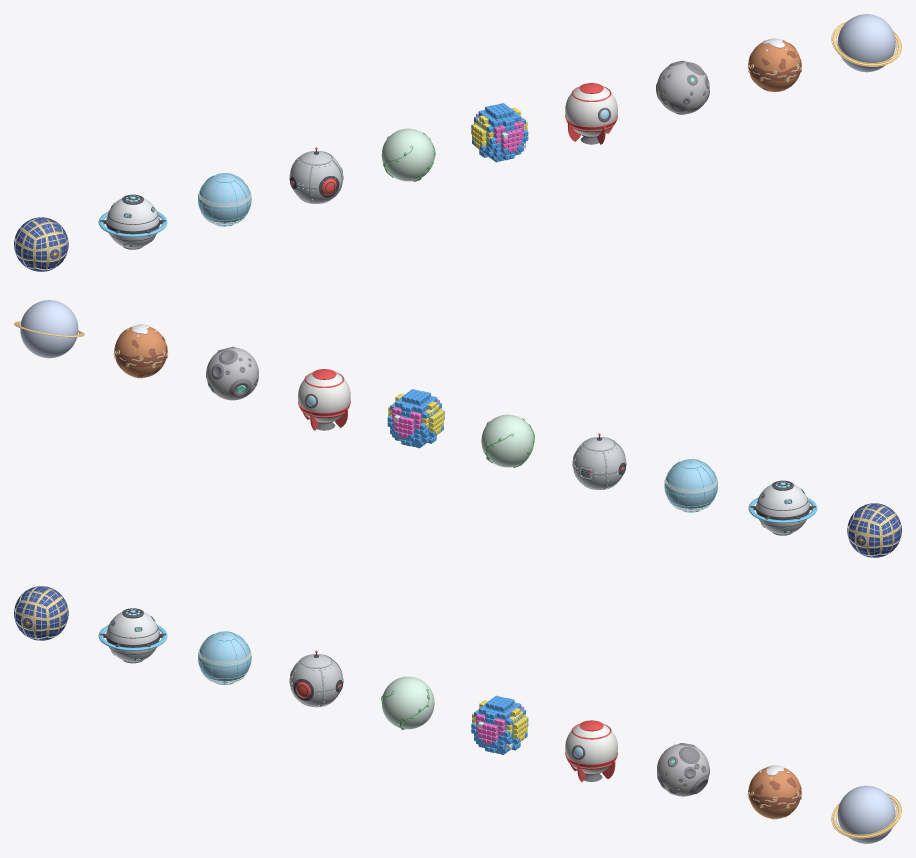
File: BallsWorld3.fbx
3 renders of one model, top to bottom at view 1: azimuth 30°, elevation 25°; view 2: azimuth 150°, elevation 25°; view 3: azimuth 330°, elevation 25°, orthographic.
Parts seen in each view (by area): view 1: singularity_orb__Lens, bio_seed_ball__Shell, hologram_ball__Shell, solar_cell_ball__Panels, hover_ball__Shell, robo_core_ball__Shell, moon_rock_ball__Shell, rocket_ball__Shell, pixel_ball__Shell, red_planet_ball__Shell, solar_cell_ball__Frames, moon_rock_ball__Craters (+8 smaller); view 2: singularity_orb__Lens, bio_seed_ball__Shell, hologram_ball__Shell, robo_core_ball__Shell, solar_cell_ball__Panels, hover_ball__Shell, rocket_ball__Shell, pixel_ball__Shell, moon_rock_ball__Shell, red_planet_ball__Shell, solar_cell_ball__Frames, moon_rock_ball__Craters (+7 smaller); view 3: singularity_orb__Lens, bio_seed_ball__Shell, hologram_ball__Shell, solar_cell_ball__Panels, hover_ball__Shell, robo_core_ball__Shell, rocket_ball__Shell, pixel_ball__Shell, moon_rock_ball__Shell, red_planet_ball__Shell, solar_cell_ball__Frames, moon_rock_ball__Craters (+8 smaller).
Part boxes in pixels (bbox=[...]): singularity_orb__Lens: bbox=[837, 14, 895, 72]; bio_seed_ball__Shell: bbox=[381, 128, 434, 181]; hologram_ball__Shell: bbox=[198, 173, 250, 226]; solar_cell_ball__Panels: bbox=[14, 217, 68, 271]; hover_ball__Shell: bbox=[106, 198, 159, 248]; robo_core_ball__Shell: bbox=[290, 151, 342, 202]; moon_rock_ball__Shell: bbox=[657, 61, 709, 114]; rocket_ball__Shell: bbox=[565, 87, 617, 136]; pixel_ball__Shell: bbox=[471, 103, 528, 162]; red_planet_ball__Shell: bbox=[749, 40, 800, 91]; solar_cell_ball__Frames: bbox=[15, 217, 67, 271]; moon_rock_ball__Craters: bbox=[656, 60, 709, 114]; singularity_orb__Lens: bbox=[20, 300, 78, 358]; bio_seed_ball__Shell: bbox=[481, 414, 533, 467]; hologram_ball__Shell: bbox=[665, 459, 717, 512]; robo_core_ball__Shell: bbox=[573, 437, 625, 488]; solar_cell_ball__Panels: bbox=[847, 503, 901, 557]; hover_ball__Shell: bbox=[756, 484, 809, 534]; rocket_ball__Shell: bbox=[298, 373, 350, 422]; pixel_ball__Shell: bbox=[387, 389, 444, 448]; moon_rock_ball__Shell: bbox=[206, 348, 258, 400]; red_planet_ball__Shell: bbox=[115, 326, 166, 377]; solar_cell_ball__Frames: bbox=[848, 503, 900, 557]; moon_rock_ball__Craters: bbox=[206, 346, 258, 397]; singularity_orb__Lens: bbox=[837, 785, 895, 843]; bio_seed_ball__Shell: bbox=[381, 676, 434, 729]; hologram_ball__Shell: bbox=[198, 632, 251, 684]; solar_cell_ball__Panels: bbox=[14, 586, 68, 640]; hover_ball__Shell: bbox=[106, 612, 159, 662]; robo_core_ball__Shell: bbox=[290, 654, 342, 706]; rocket_ball__Shell: bbox=[565, 724, 617, 773]; pixel_ball__Shell: bbox=[471, 695, 528, 754]; moon_rock_ball__Shell: bbox=[657, 744, 709, 796]; red_planet_ball__Shell: bbox=[749, 767, 800, 818]; solar_cell_ball__Frames: bbox=[15, 586, 67, 640]; moon_rock_ball__Craters: bbox=[657, 743, 709, 794].
Bounding box in the file's own units: 3838 × 250 × 260.
